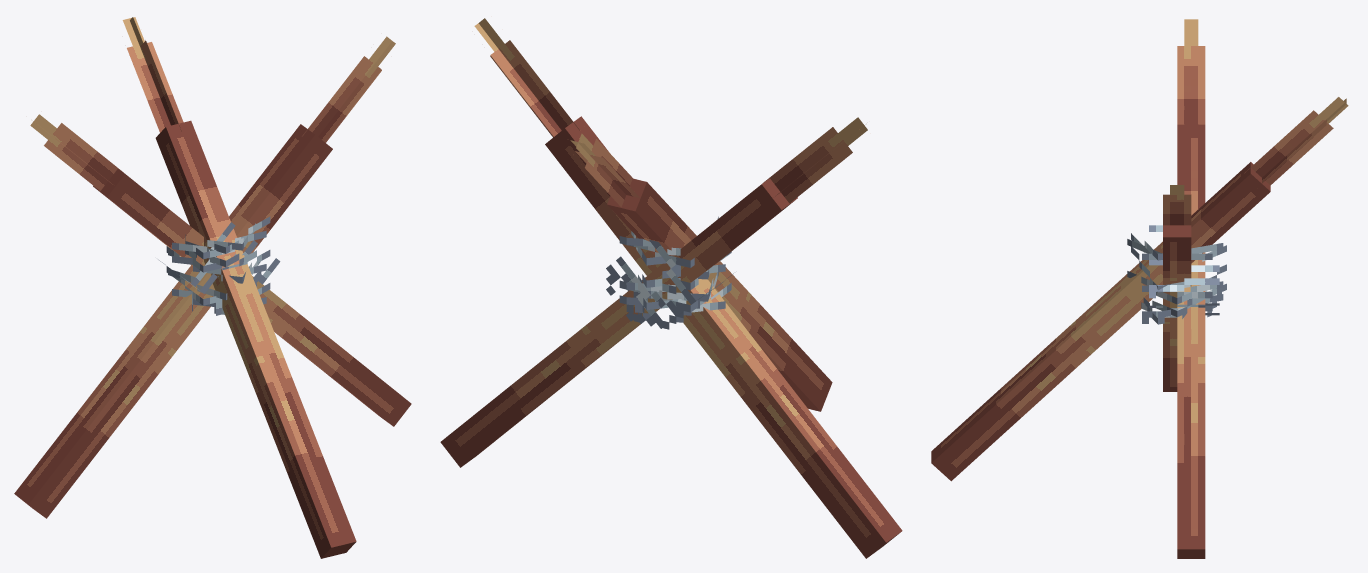
File: wood-barricade-1.gltf
3 views of the same model, side by side, from view 1: azimuth 30°, elevation 25°; view 2: azimuth 150°, elevation 25°; view 3: azimuth 270°, elevation 25° (orthographic). The views are drawn at different scales.
Visible parts, largest first — view 1: cube (×12); view 2: cube (×12); view 3: cube (×10).
Part boxes in pixels (<box>): cube (×12): <box>14,17,411,558</box>; cube (×12): <box>440,18,902,558</box>; cube (×10): <box>931,19,1348,558</box>.
Bounding box in the file's own units: 1.93 × 1.87 × 1.87.
1 material, 1 textured.
